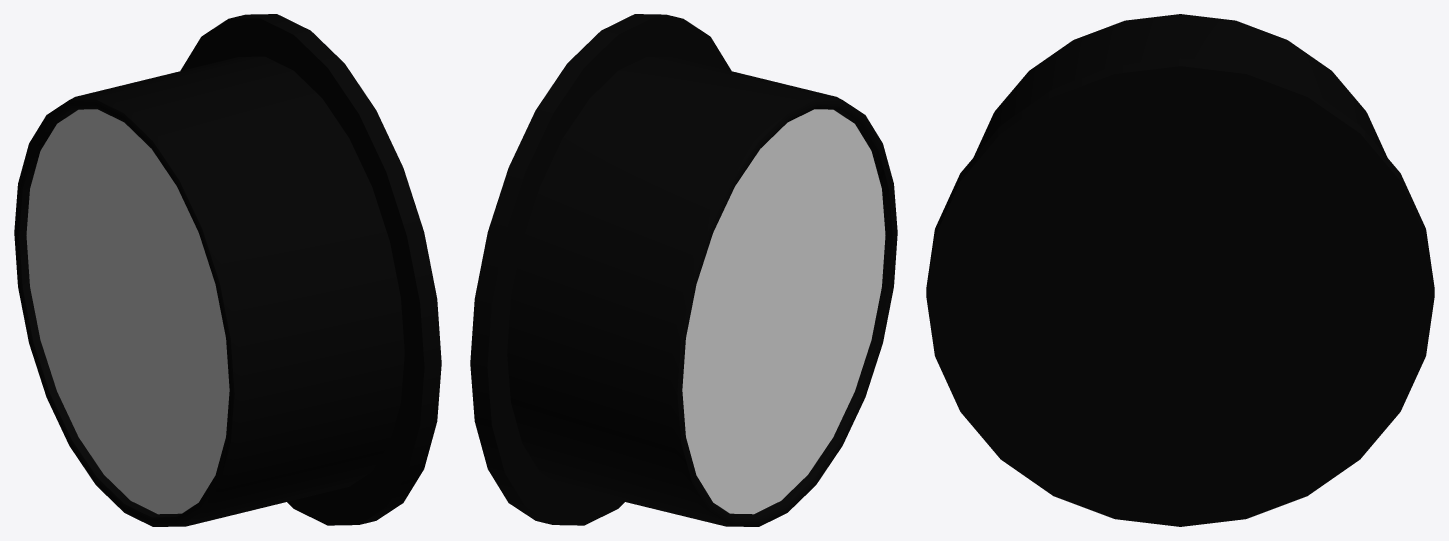
Rendered from gauge_bar_0-10.fbx.
3 renders of one model, left to right at view 1: azimuth 30°, elevation 25°; view 2: azimuth 150°, elevation 25°; view 3: azimuth 270°, elevation 25°, orthographic. The views are drawn at different scales.
Parts seen in each view (by area): view 1: gauge_bar_0-10_, pressureGauge_glass; view 2: gauge_bar_0-10_, pressureGauge_glass; view 3: gauge_bar_0-10_.
Boxes of the visible parts, x1,y1,x2,y2 form: gauge_bar_0-10_: (14,14,441,526); pressureGauge_glass: (26,109,229,514); gauge_bar_0-10_: (470,14,897,526); pressureGauge_glass: (682,109,885,514); gauge_bar_0-10_: (926,14,1434,526).
Size of the model in its own units: 5.5 by 13.2 by 13.2.
Materials: 1 (1 with a texture image).
